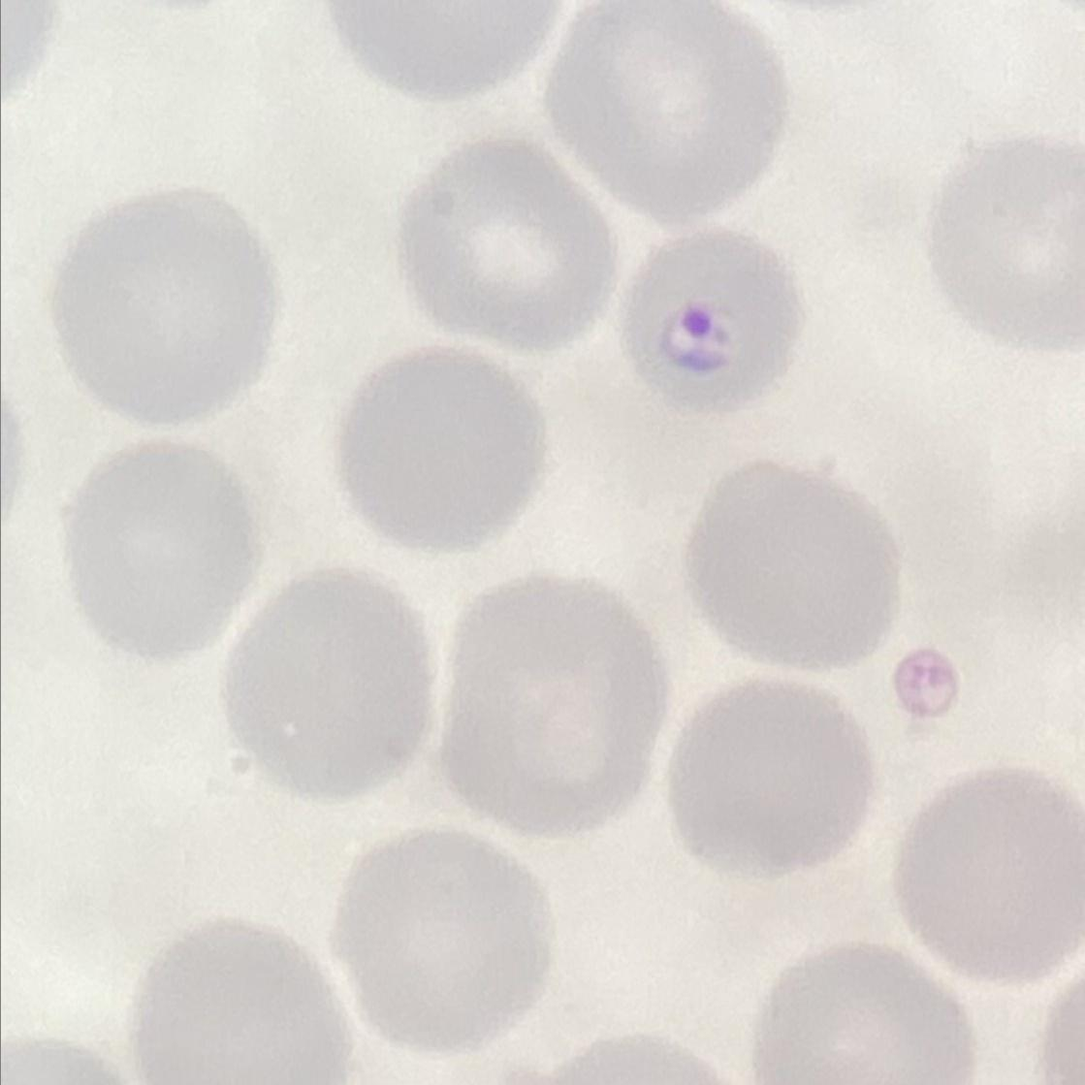Infected: (617, 224, 812, 417)
Uninfected: (443, 573, 670, 827), (549, 4, 793, 219), (61, 182, 274, 422), (682, 460, 907, 676), (220, 567, 431, 795), (391, 130, 610, 348), (336, 835, 554, 1045), (52, 447, 259, 663), (666, 677, 877, 881), (343, 344, 545, 553), (892, 764, 1085, 982), (126, 906, 353, 1085), (937, 134, 1085, 353), (744, 945, 972, 1085)
